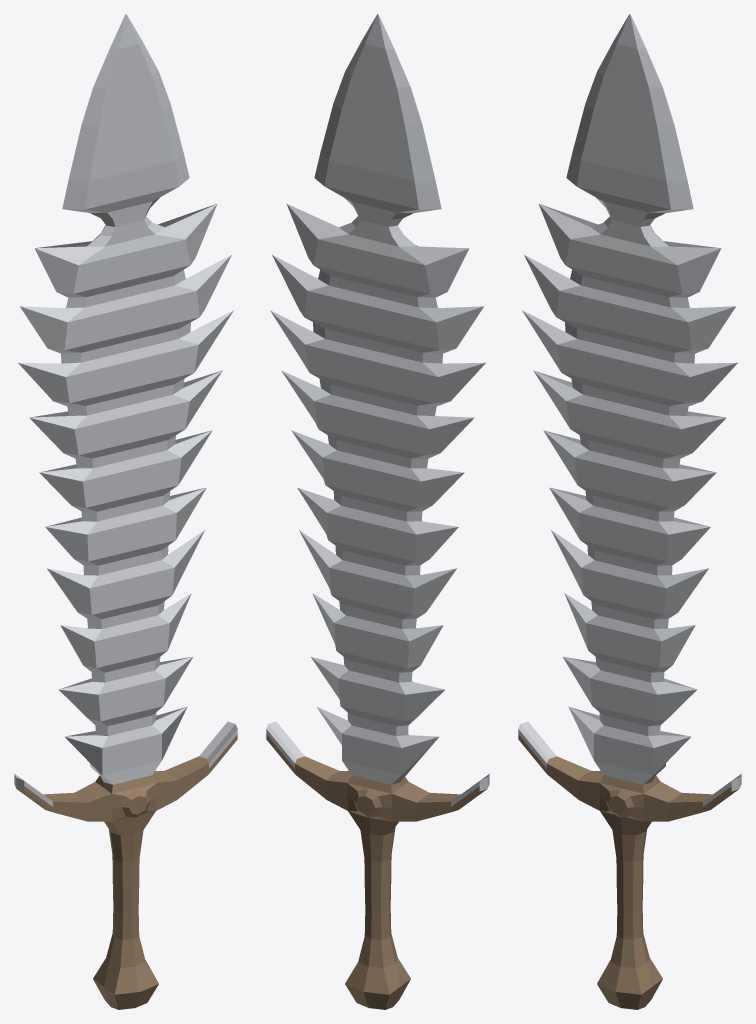
Rendered from weapon_rotroot_edge.glb.
3 views of the same model, side by side, from view 1: azimuth 30°, elevation 25°; view 2: azimuth 150°, elevation 25°; view 3: azimuth 330°, elevation 25° (orthographic).
Parts seen in each view (by area): view 1: rotroot_edge; view 2: rotroot_edge; view 3: rotroot_edge.
Boxes of the visible parts, x1,y1,x2,y2 form: rotroot_edge: (14,14,237,1009); rotroot_edge: (266,14,489,1009); rotroot_edge: (518,14,741,1009).
Size of the model in its own units: 0.2668 by 1.15 by 0.0607.
